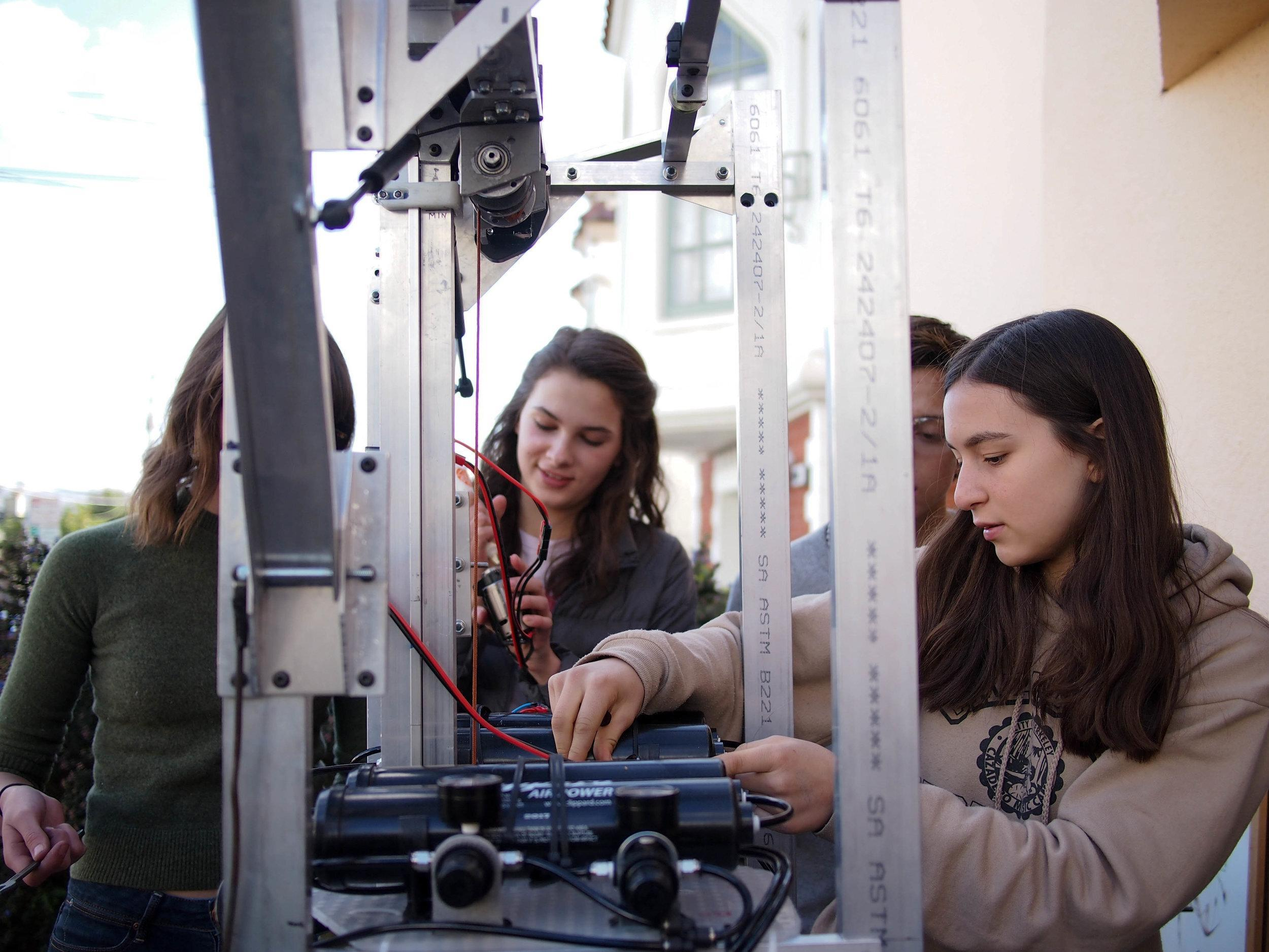robot: (180, 0, 934, 952)
